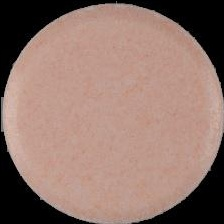43353-733: (0, 0, 224, 224)
